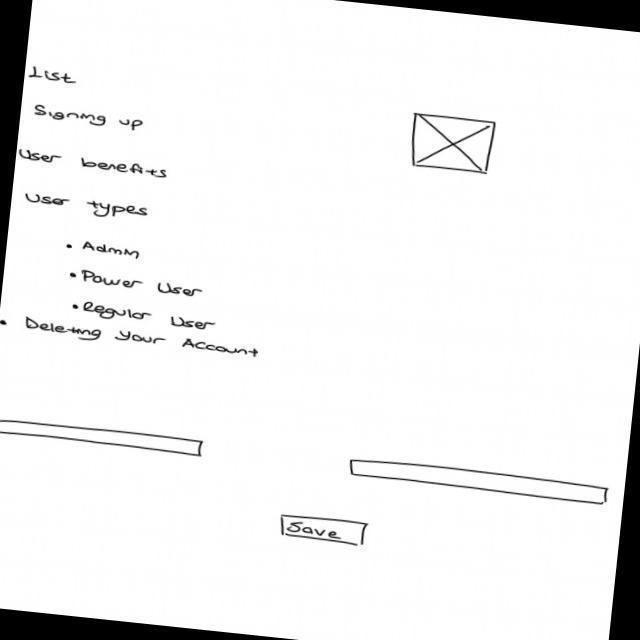button: (277, 512, 370, 549)
image: (406, 111, 498, 177)
input: (346, 457, 610, 507), (1, 417, 204, 456)
label: (20, 316, 262, 361), (16, 147, 171, 180), (81, 300, 220, 335), (21, 192, 150, 224), (79, 268, 205, 300), (33, 103, 147, 133), (25, 61, 81, 87), (82, 240, 144, 263)
